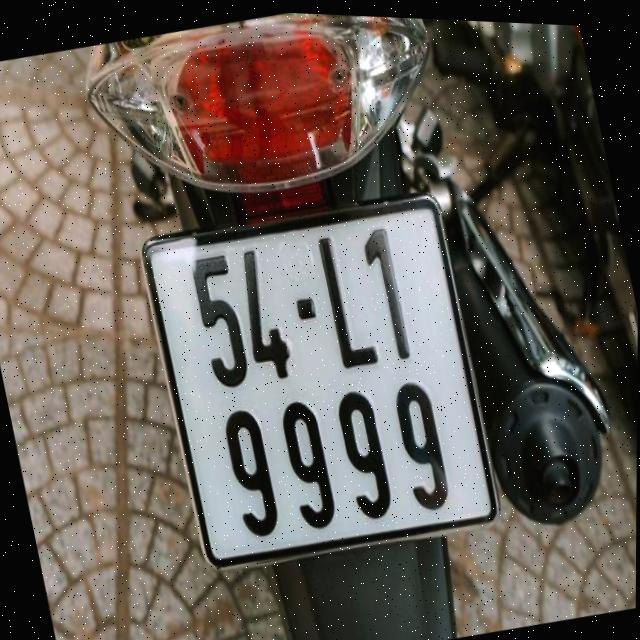motorcycle: (37, 2, 604, 640), (421, 19, 640, 624)
plate: (126, 158, 513, 599)
